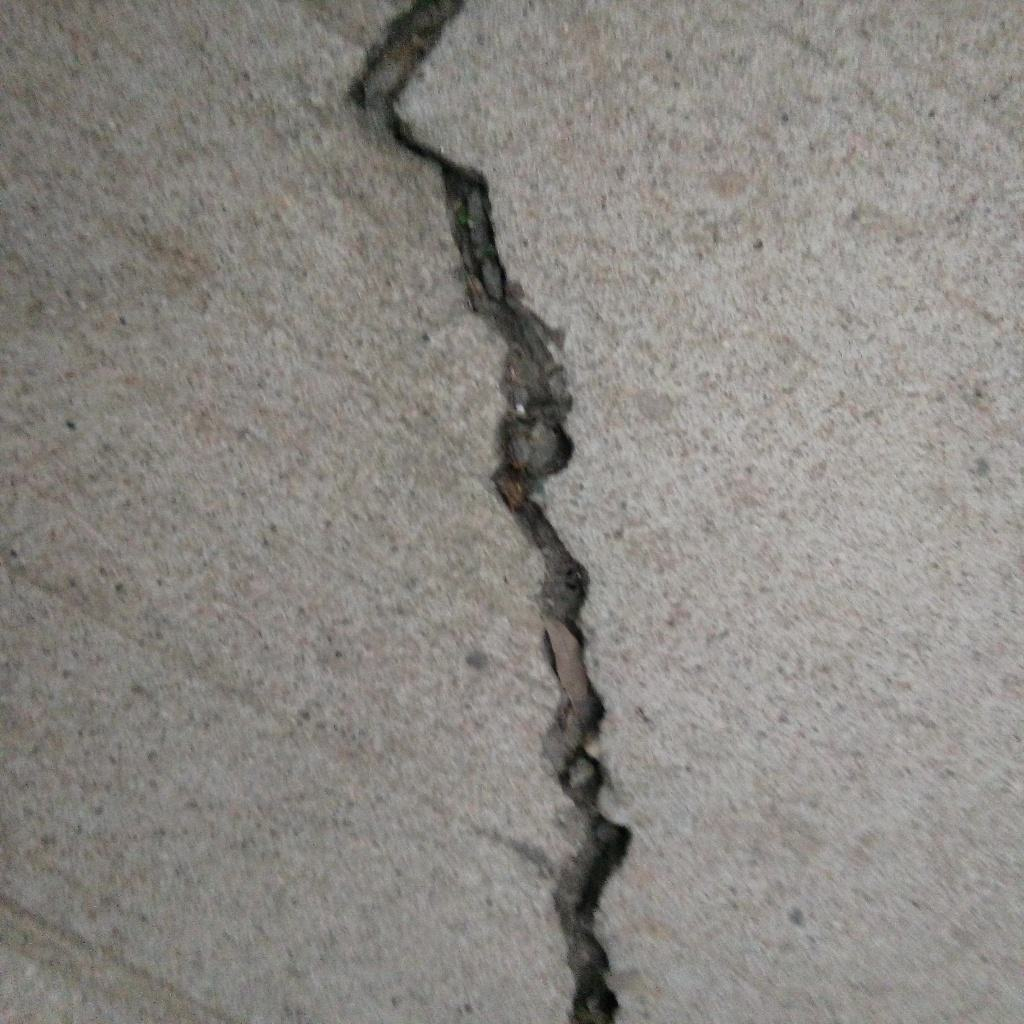Crack: (343, 1, 636, 1024)
